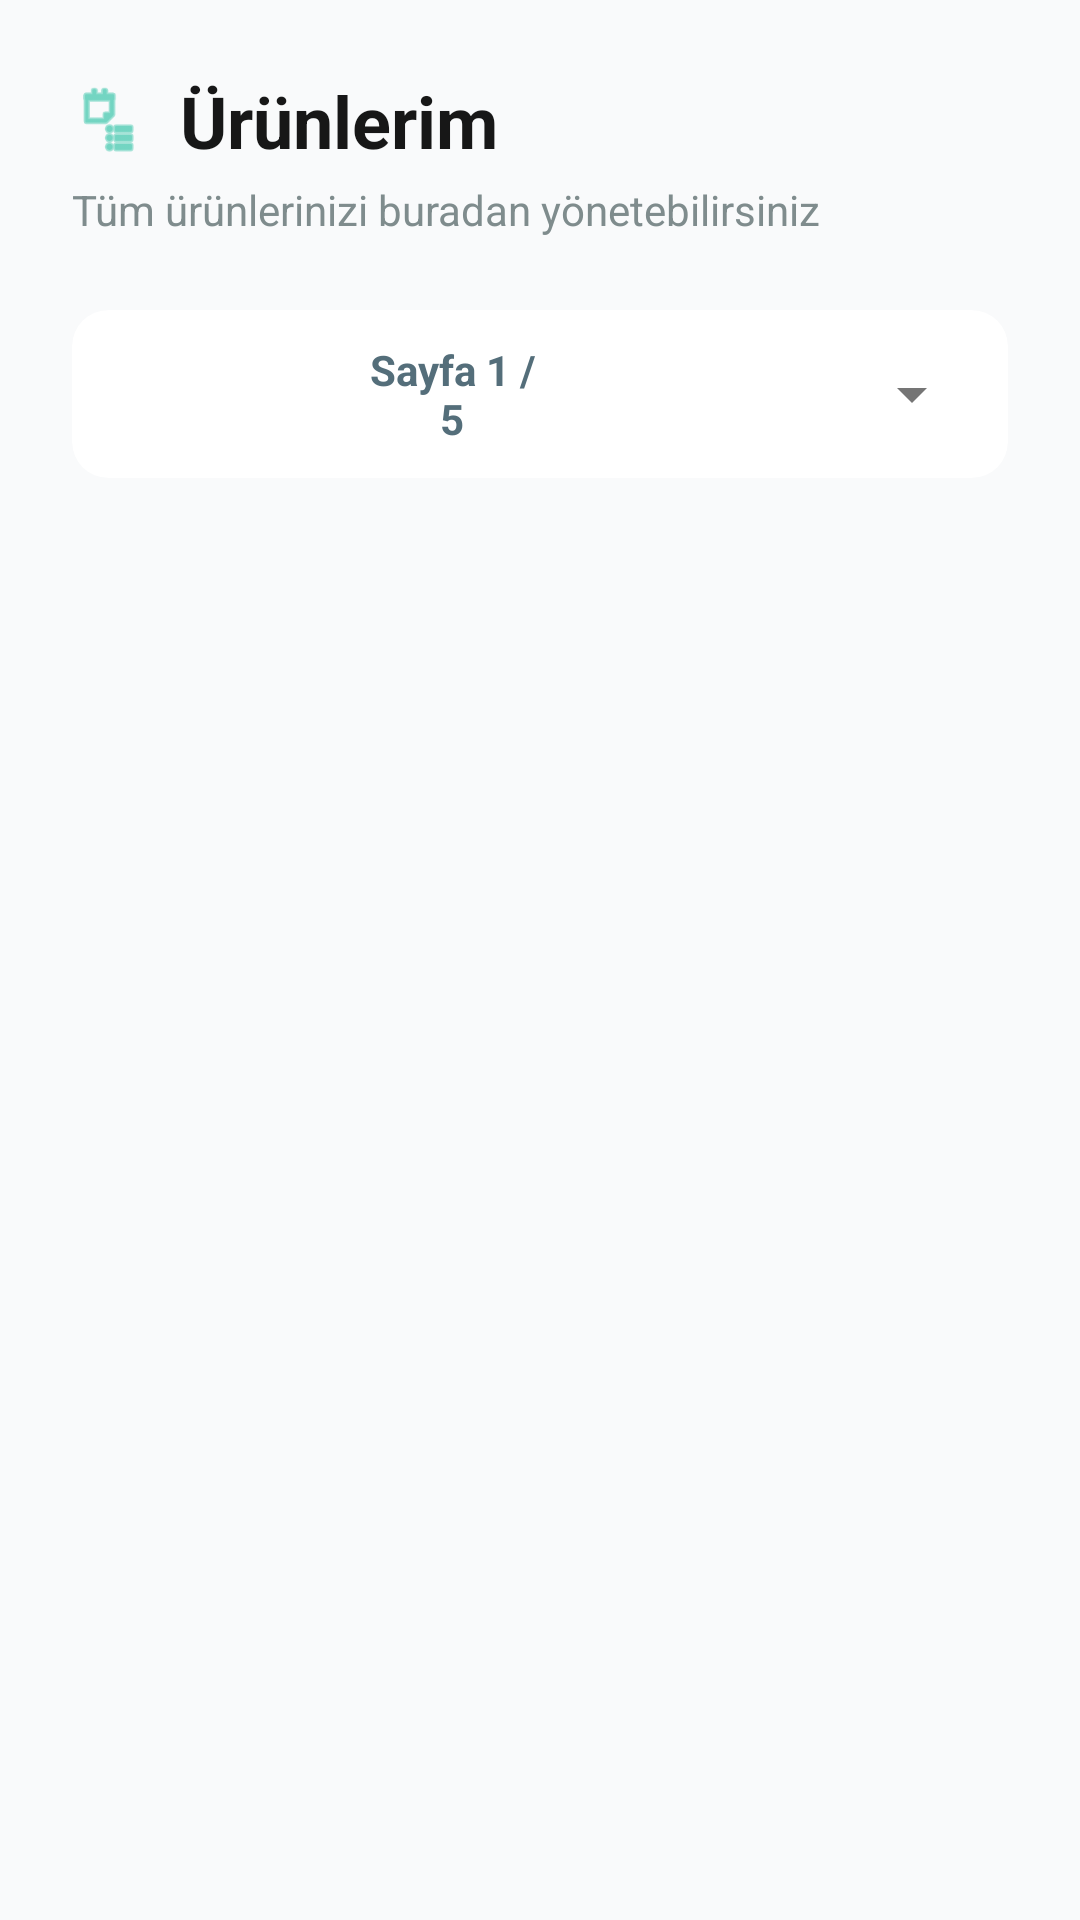

Icons on this 1080×1920 Android screen, each with its box as box=[x1, y1, x2, y2]:
agenda: box=[83, 88, 134, 152]
